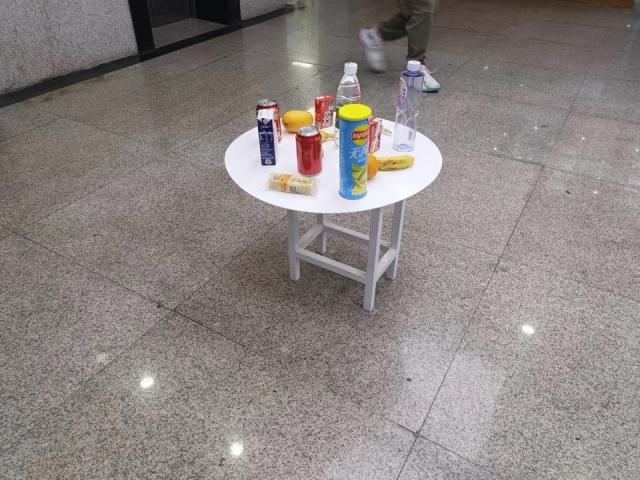Canned_drinks: (294, 126, 324, 176), (256, 99, 284, 143)
bottle: (392, 59, 425, 154), (334, 61, 361, 148)
cylinder: (336, 103, 372, 200)
drink_box: (256, 109, 279, 166), (315, 96, 334, 128), (370, 116, 383, 154)
